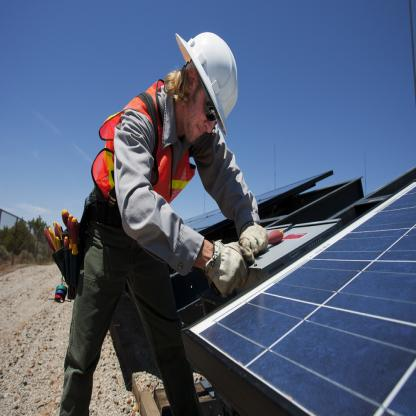Helmet: (170, 27, 239, 150)
